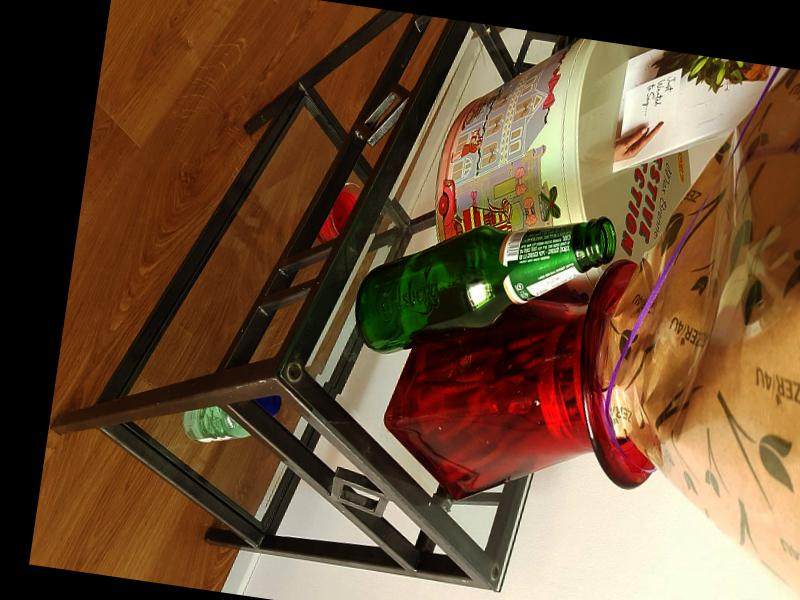Beer: (349, 186, 619, 384)
